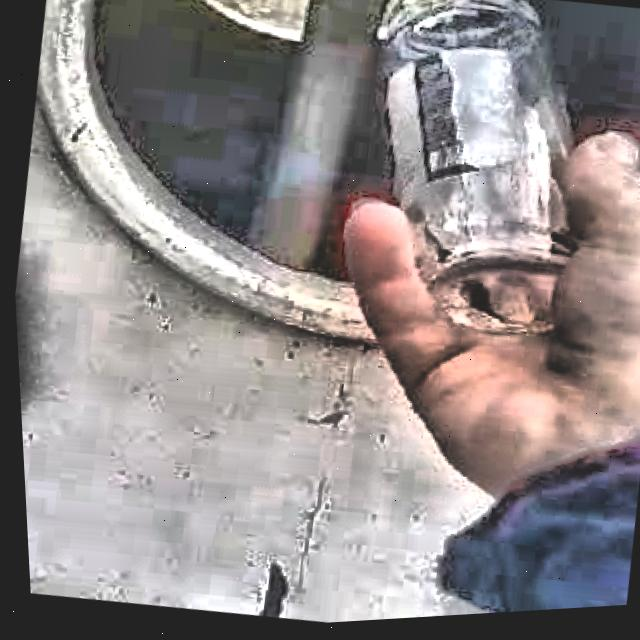glass: (388, 0, 570, 340)
